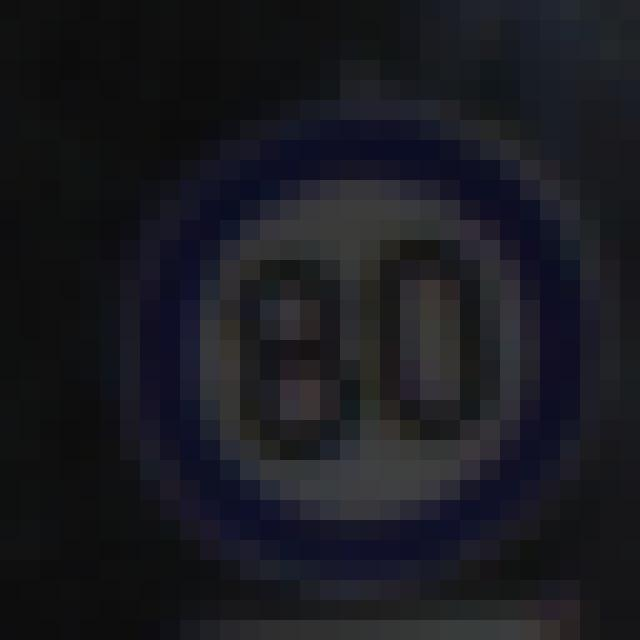SPEED-LIMIT-80: (129, 121, 569, 579)
